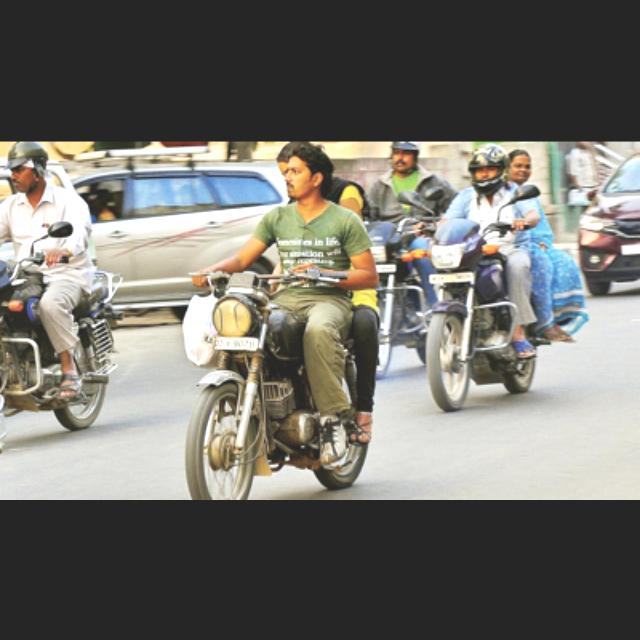With Helmet: (462, 140, 516, 192), (1, 140, 51, 190)
Without Helmet: (285, 144, 333, 203), (504, 148, 532, 185)
